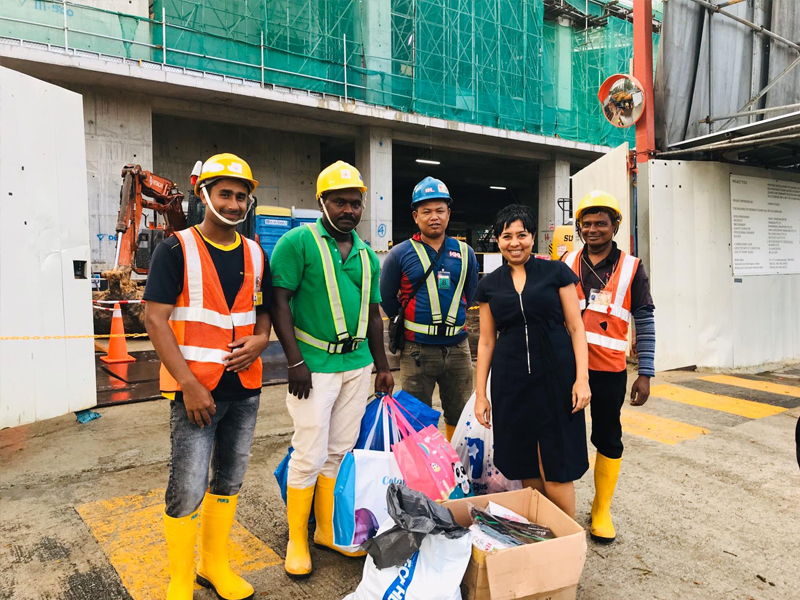No Safety Helmet: (489, 197, 539, 271)
Safety Helmet: (189, 148, 259, 234), (309, 152, 370, 240), (572, 183, 626, 260), (404, 167, 455, 245)
